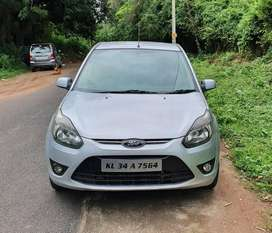KL34A7564: (100, 158, 162, 171)
